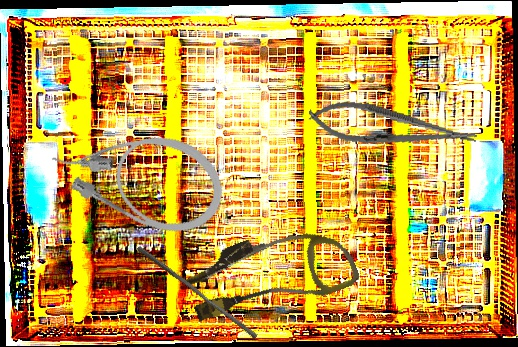Cannula: (41, 101, 237, 248), (178, 206, 362, 342)
Needle Holder: (305, 94, 480, 161)
Pusher: (133, 245, 261, 340)
